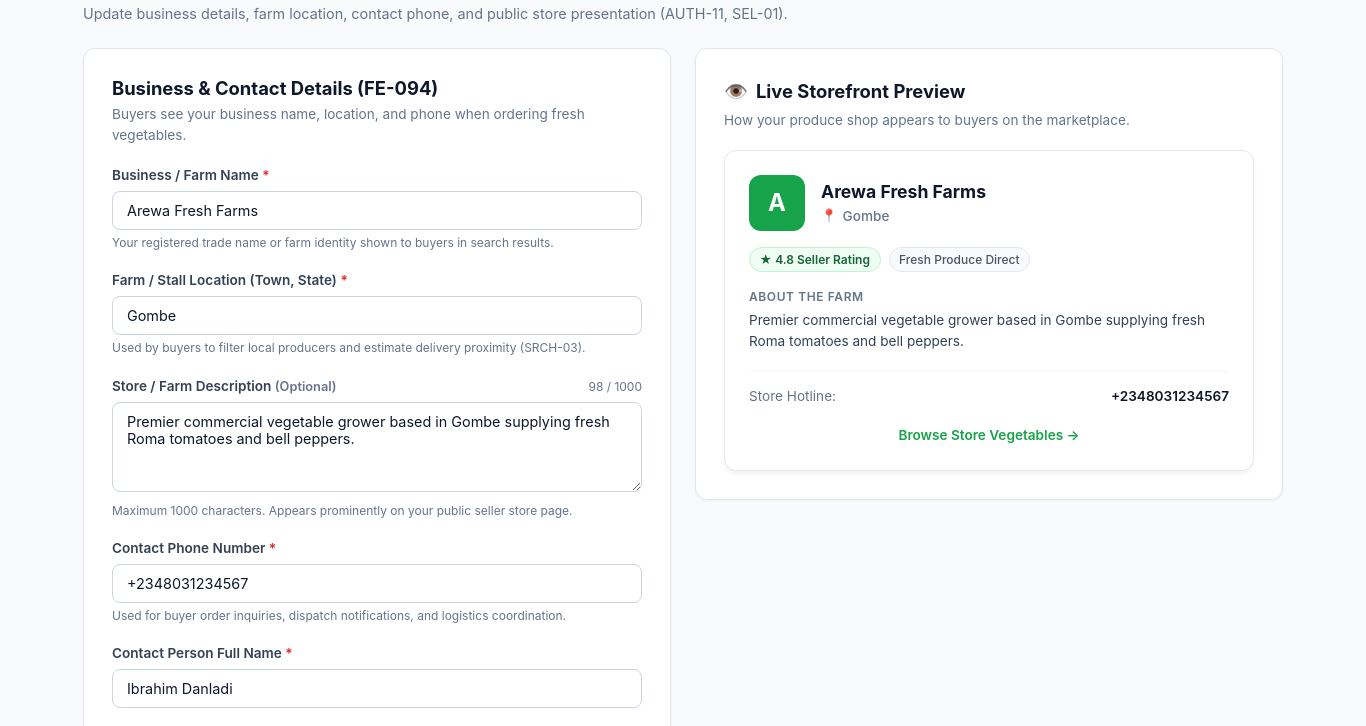
Test: FE-094 / AUTH-11: Seller Profile Edit › 2. Client-Side Validation for Edit Fields (FE-094, AUTH-11) › validates location (required, min 2 chars, max 150 chars)
Clear the field with test id "profile-location-input": (377, 316) [112,296,642,335]
(page scrolled)
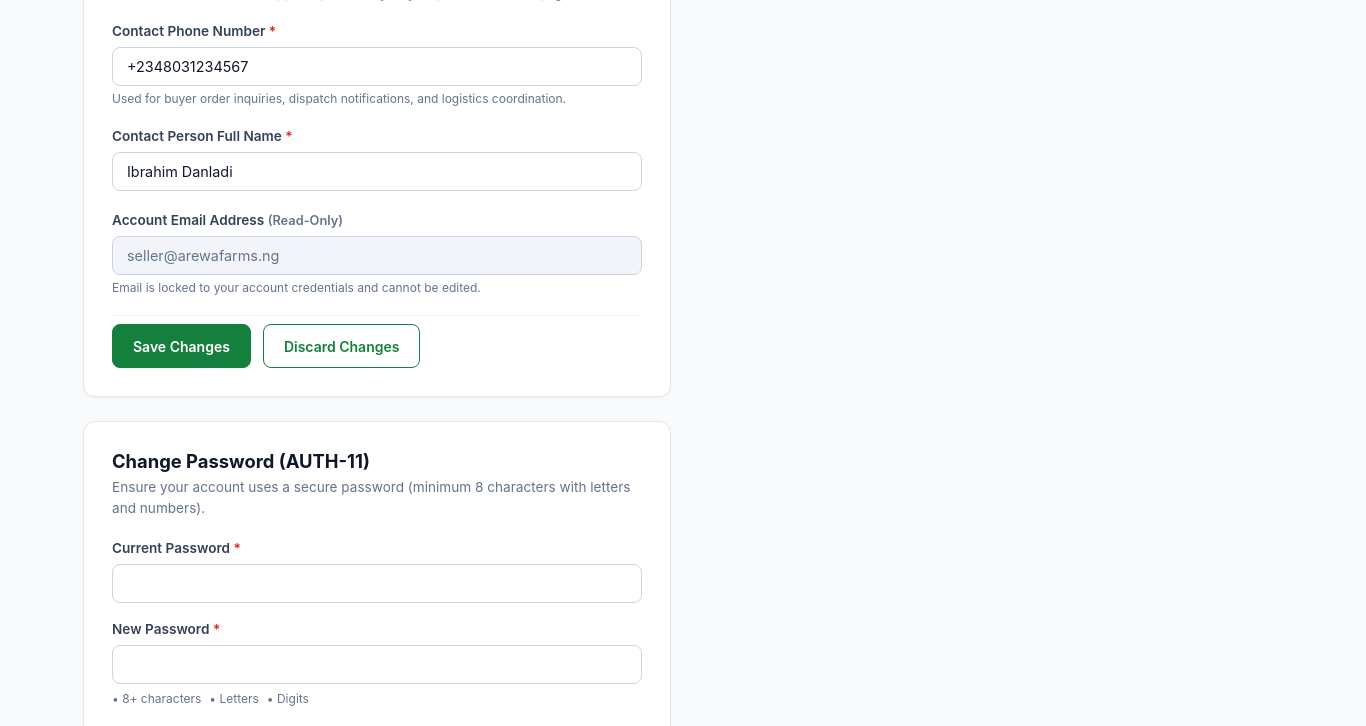
Click the button with test id "profile-save-btn": (181, 346) [112,324,251,368]
(page scrolled)
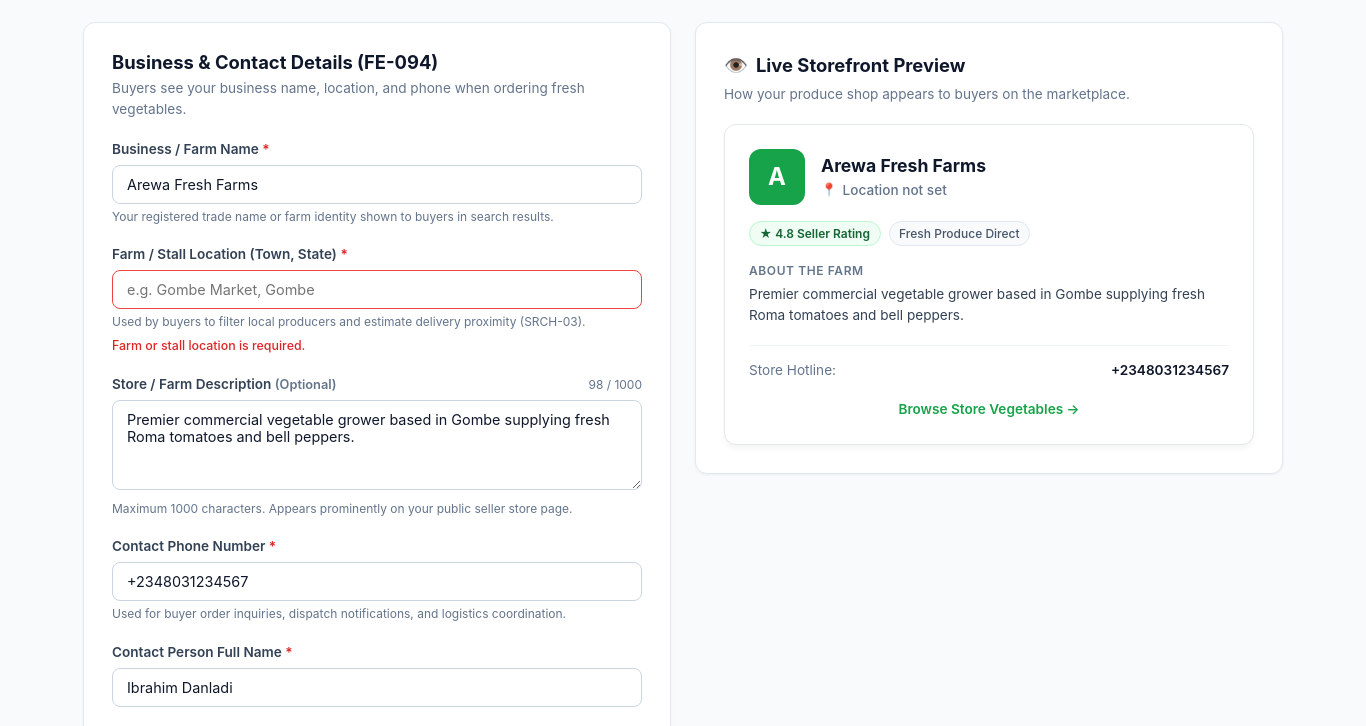
Expected: the message with test id "profile-location-error" shows "Farm or stall location is required", [112,338,305,353]
